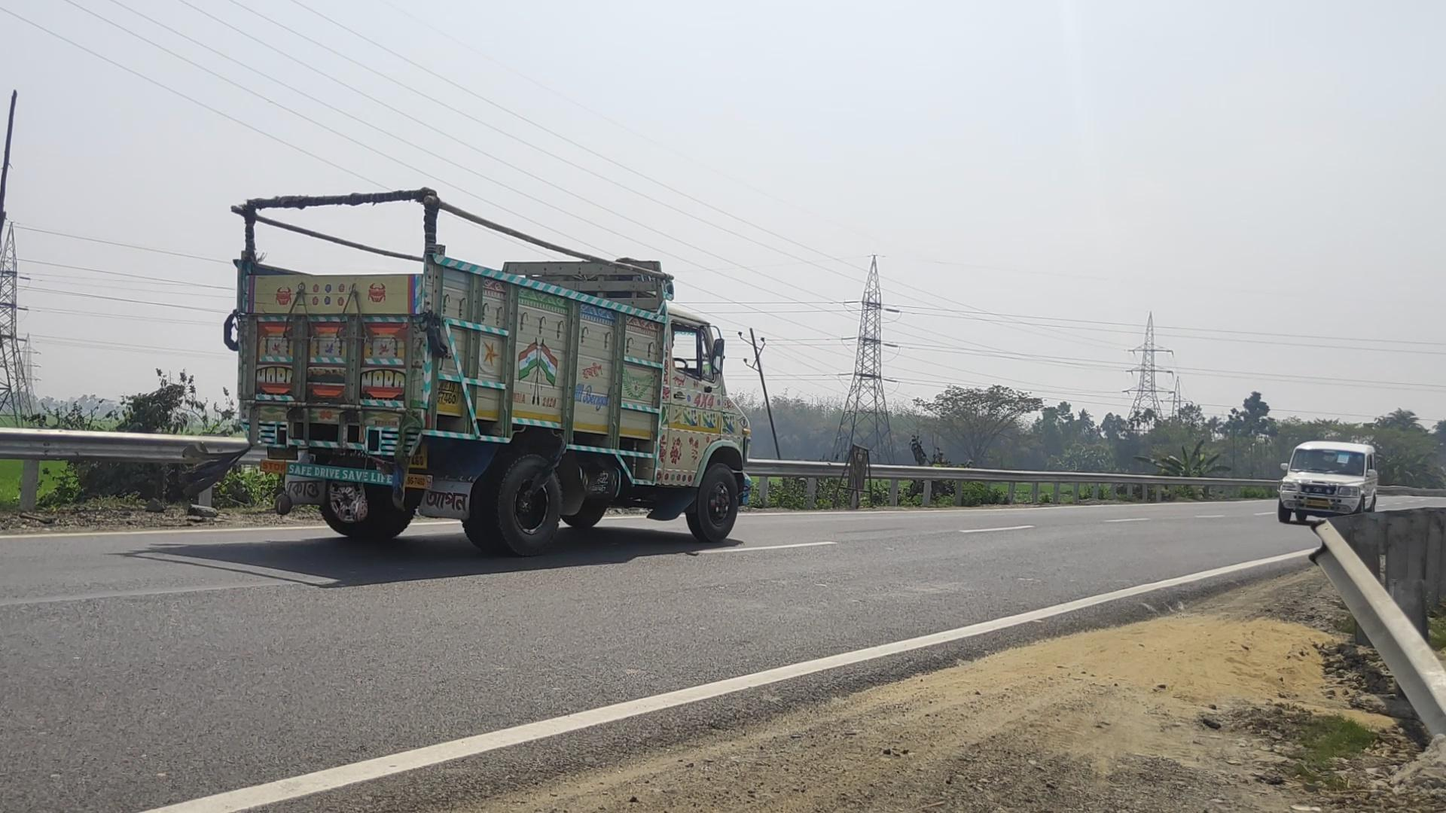car: (1277, 440, 1378, 524)
truck: (231, 187, 751, 558)
